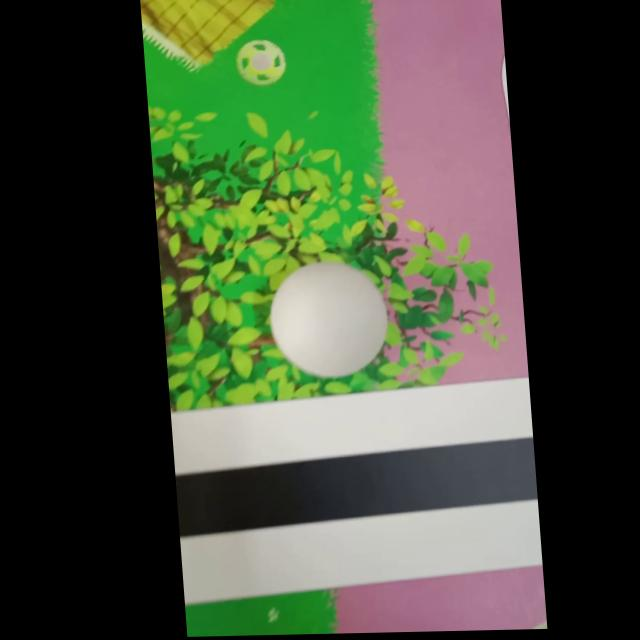white ball: (264, 259, 392, 380)
